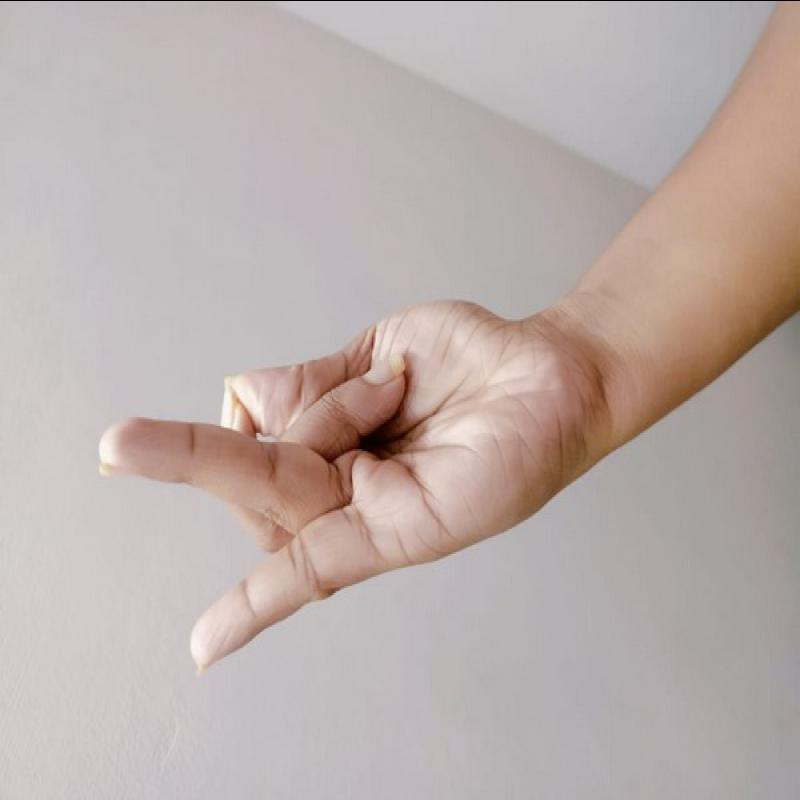Katakam: (66, 282, 605, 692)
